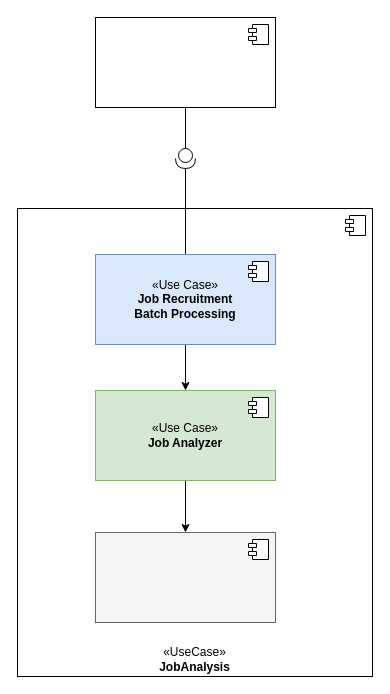
This 390x694 diagram has some shape labels left out. The box of each missing label's shape, as (x1, y1, x2, y2) in pixels:
«Infrastructure» Job Crawler: (94, 16, 276, 108)
«Use Case» Job Data Normalizing: (94, 532, 276, 622)
